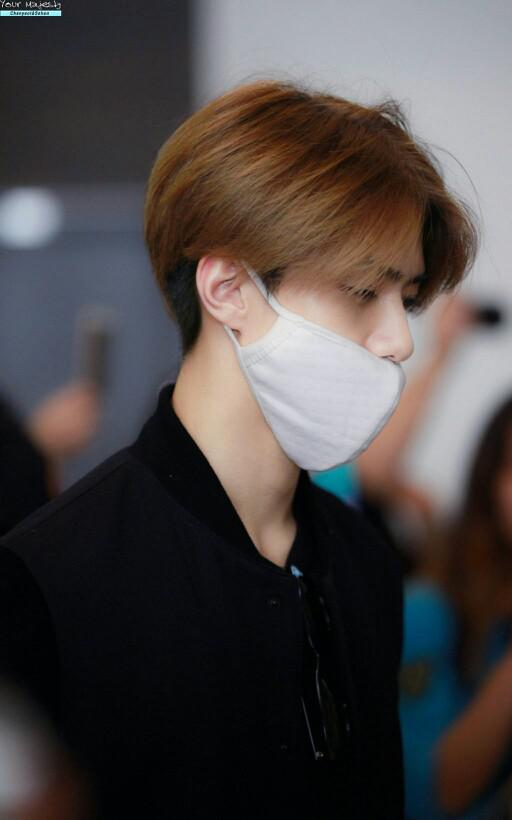WRONG: (195, 238, 420, 463)
